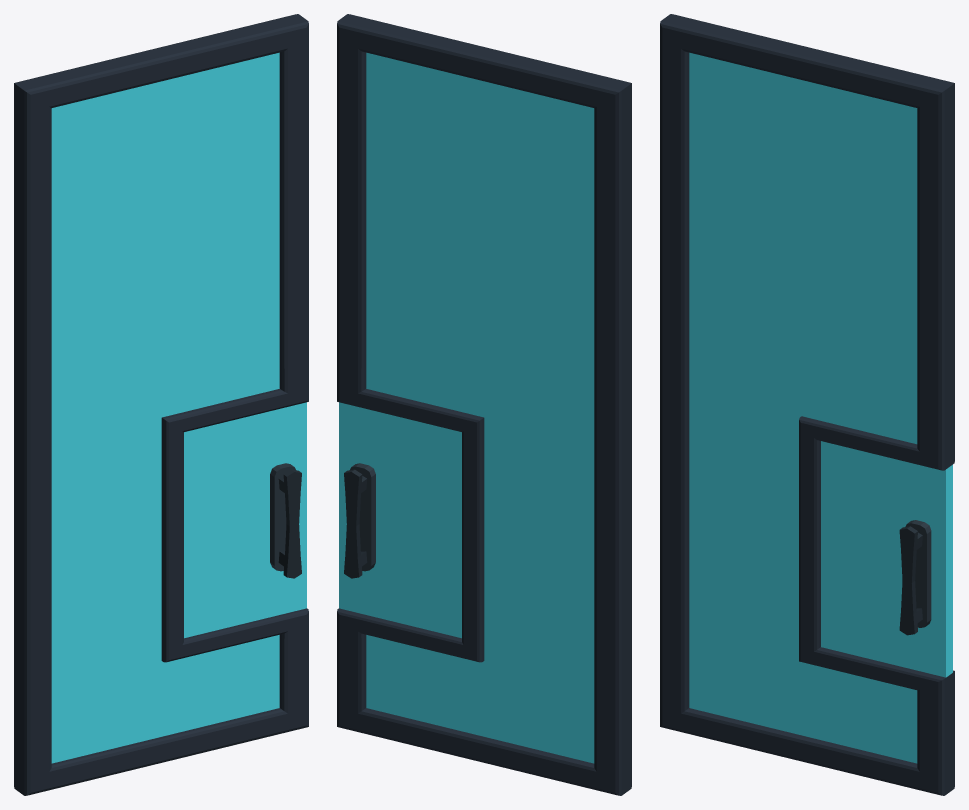
The model's file is SM_Buildings_Office_06_Door_L.fbx.
3 views of the same model, side by side, from view 1: azimuth 30°, elevation 25°; view 2: azimuth 150°, elevation 25°; view 3: azimuth 330°, elevation 25° (orthographic).
Parts seen in each view (by area): view 1: SM_Buildings_Office_06_Door_L; view 2: SM_Buildings_Office_06_Door_L; view 3: SM_Buildings_Office_06_Door_L.
Part boxes in pixels (bbox=[...]): SM_Buildings_Office_06_Door_L: bbox=[14, 14, 308, 795]; SM_Buildings_Office_06_Door_L: bbox=[337, 14, 631, 795]; SM_Buildings_Office_06_Door_L: bbox=[660, 14, 954, 795].
Size of the model in its own units: 1.27 by 3.02 by 0.2586.
